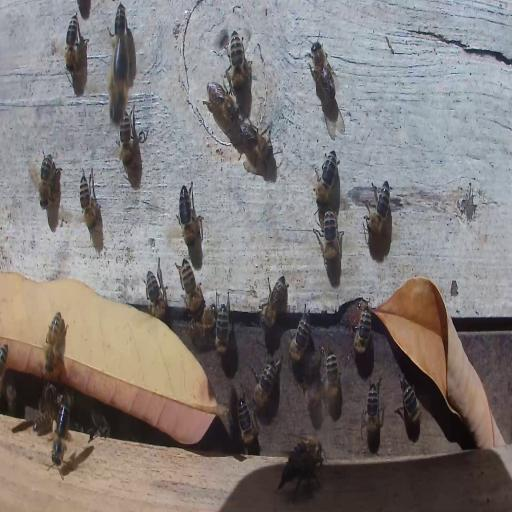nonpollenbee: (308, 37, 336, 100), (78, 166, 102, 237), (278, 453, 320, 493), (258, 274, 289, 328), (364, 179, 391, 239), (206, 80, 240, 126), (312, 148, 338, 207), (176, 257, 202, 313), (44, 310, 66, 376), (177, 181, 200, 244), (398, 377, 424, 432), (228, 31, 251, 93), (288, 306, 312, 364), (318, 209, 343, 264), (242, 121, 273, 165), (350, 308, 375, 362), (251, 362, 279, 410), (364, 379, 383, 441), (238, 396, 259, 452), (324, 347, 342, 412), (145, 265, 166, 319), (188, 304, 217, 343), (292, 431, 324, 462), (215, 303, 230, 366), (118, 111, 132, 171), (65, 14, 78, 74), (40, 152, 52, 208), (87, 411, 110, 439), (113, 5, 127, 41), (41, 382, 58, 408), (33, 414, 53, 434), (5, 384, 16, 414), (0, 343, 8, 380)
pollenbee: (106, 39, 132, 126), (48, 396, 73, 471)
